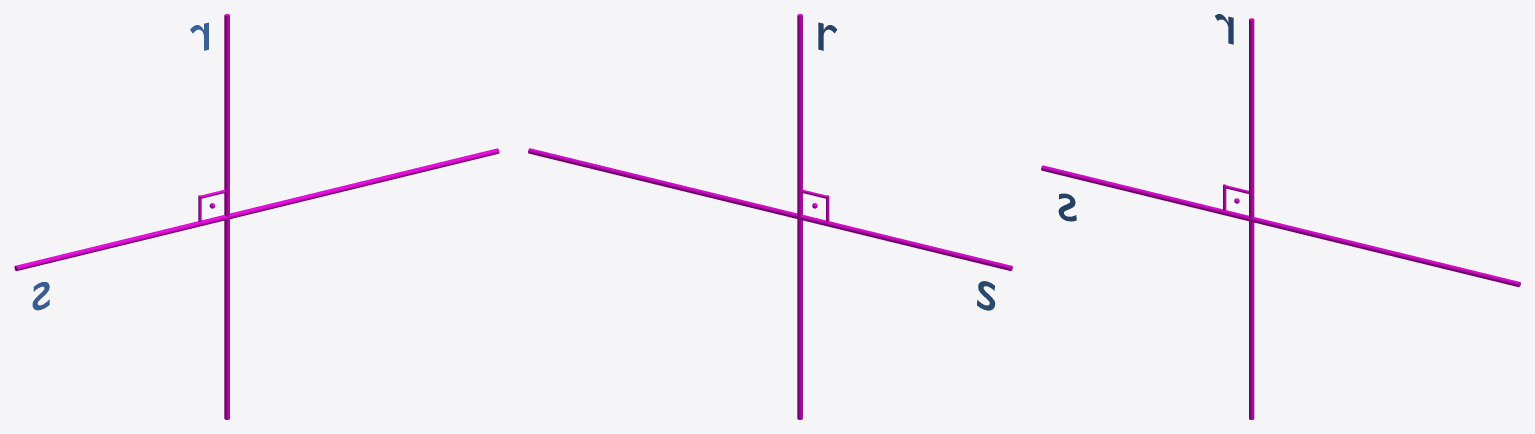
Rendered from ob1.3_retas_perpendiculares.glb.
The picture shows the model from 3 angles, left to right: view 1: azimuth 30°, elevation 25°; view 2: azimuth 150°, elevation 25°; view 3: azimuth 330°, elevation 25°; orthographic projection.
Parts seen in each view (by area): view 1: Cylinder-reta-C_Cylinder; view 2: Cylinder-reta-C_Cylinder; view 3: Cylinder-reta-C_Cylinder.
Boxes of the visible parts, bbox=[...] form: Cylinder-reta-C_Cylinder: bbox=[14, 14, 499, 419]; Cylinder-reta-C_Cylinder: bbox=[528, 14, 1012, 419]; Cylinder-reta-C_Cylinder: bbox=[1041, 18, 1520, 419].
Bounding box in the file's own units: 9.3 × 7.44 × 0.0964.
